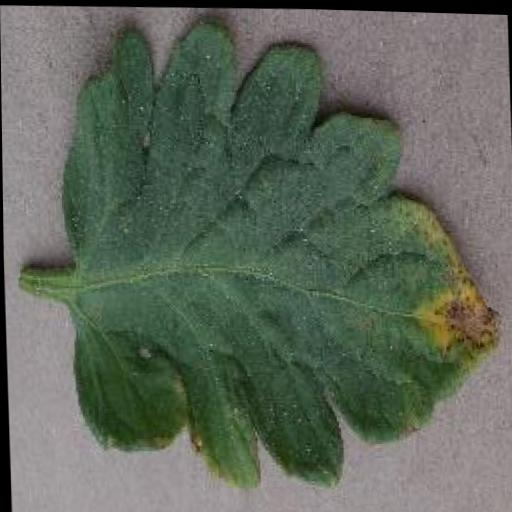Bacterial Spot: (45, 4, 511, 501)
